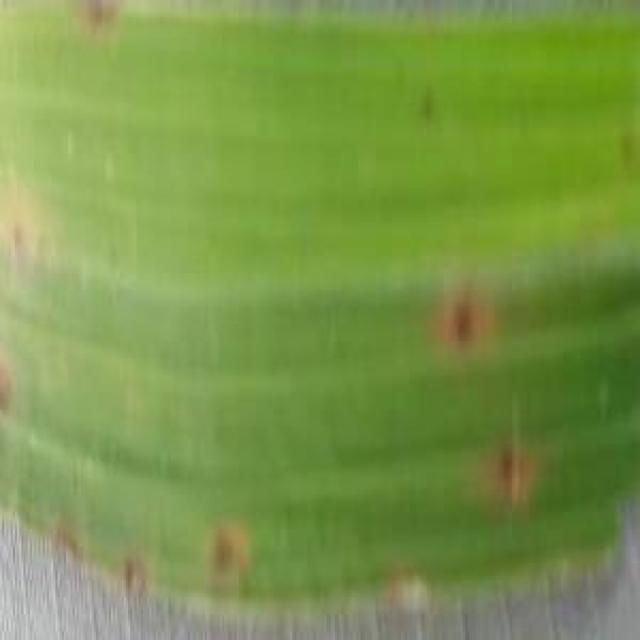Brown_Spot: (486, 438, 544, 517), (436, 286, 488, 372)
